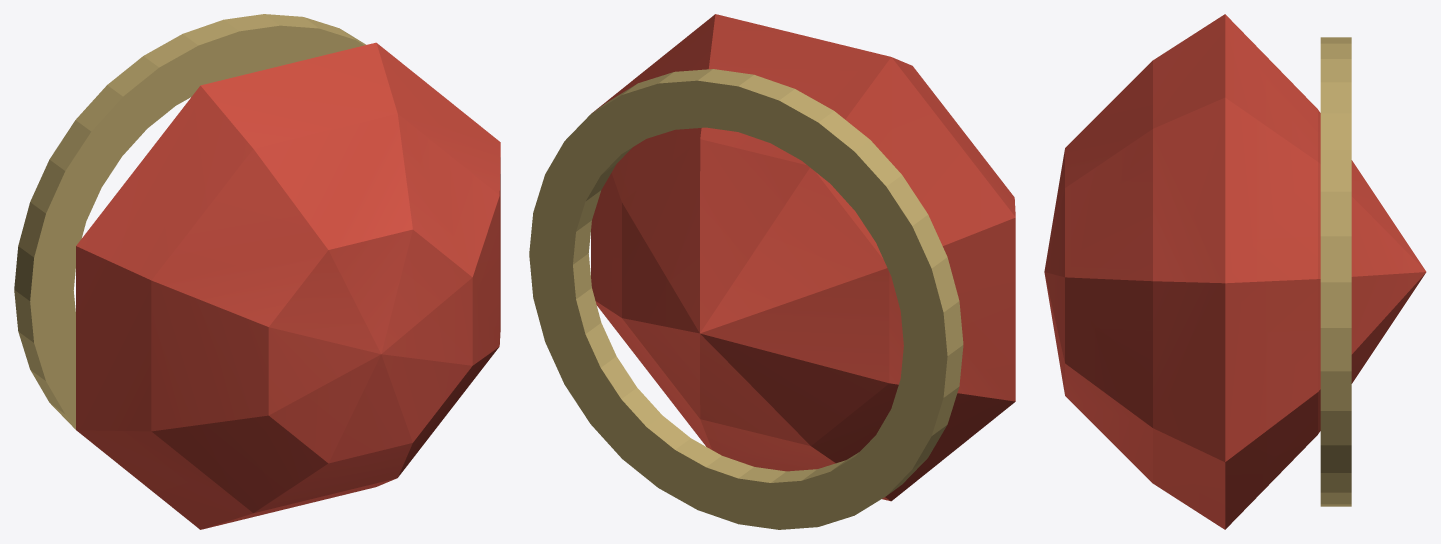
The model's file is tas_hiz.glb.
3 renders of one model, left to right at view 1: azimuth 30°, elevation 25°; view 2: azimuth 150°, elevation 25°; view 3: azimuth 270°, elevation 25°, orthographic. The views are drawn at different scales.
Visible parts, largest first — view 1: Faceted_Gem, Gold_Collar; view 2: Faceted_Gem, Gold_Collar; view 3: Faceted_Gem, Gold_Collar.
Part boxes in pixels (<box>): Faceted_Gem: <box>76,42,500,529</box>; Gold_Collar: <box>14,14,366,429</box>; Faceted_Gem: <box>591,14,1015,501</box>; Gold_Collar: <box>529,69,963,529</box>; Faceted_Gem: <box>1044,14,1426,529</box>; Gold_Collar: <box>1320,37,1351,506</box>.
Bounding box in the file's own units: 1.85 × 1.85 × 1.48.
